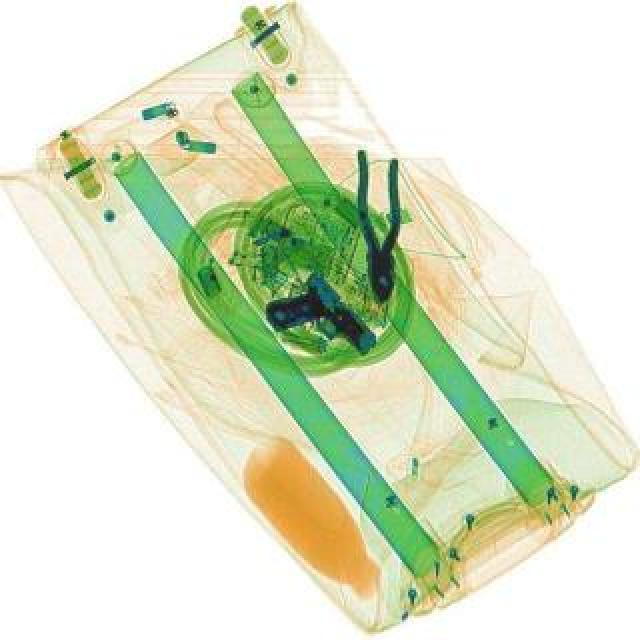gun: (262, 270, 388, 388)
wrench: (356, 154, 404, 310)
